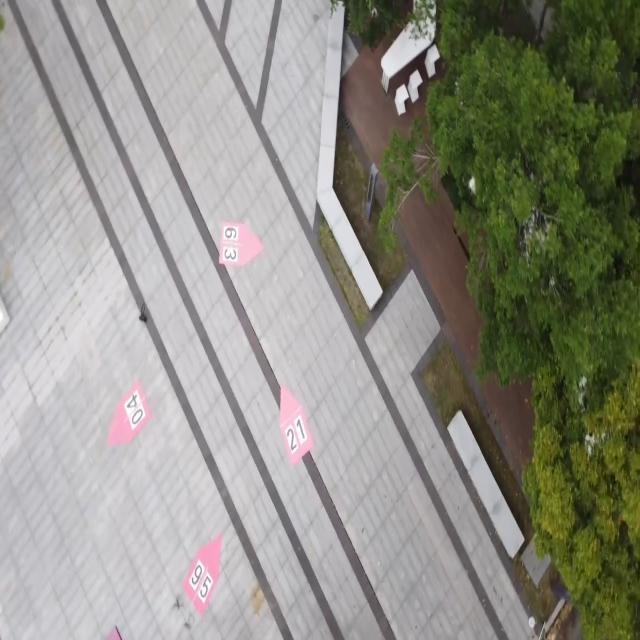-sign-: (182, 533, 224, 618), (106, 380, 152, 448), (279, 384, 313, 466), (218, 220, 264, 268), (104, 625, 123, 640)
